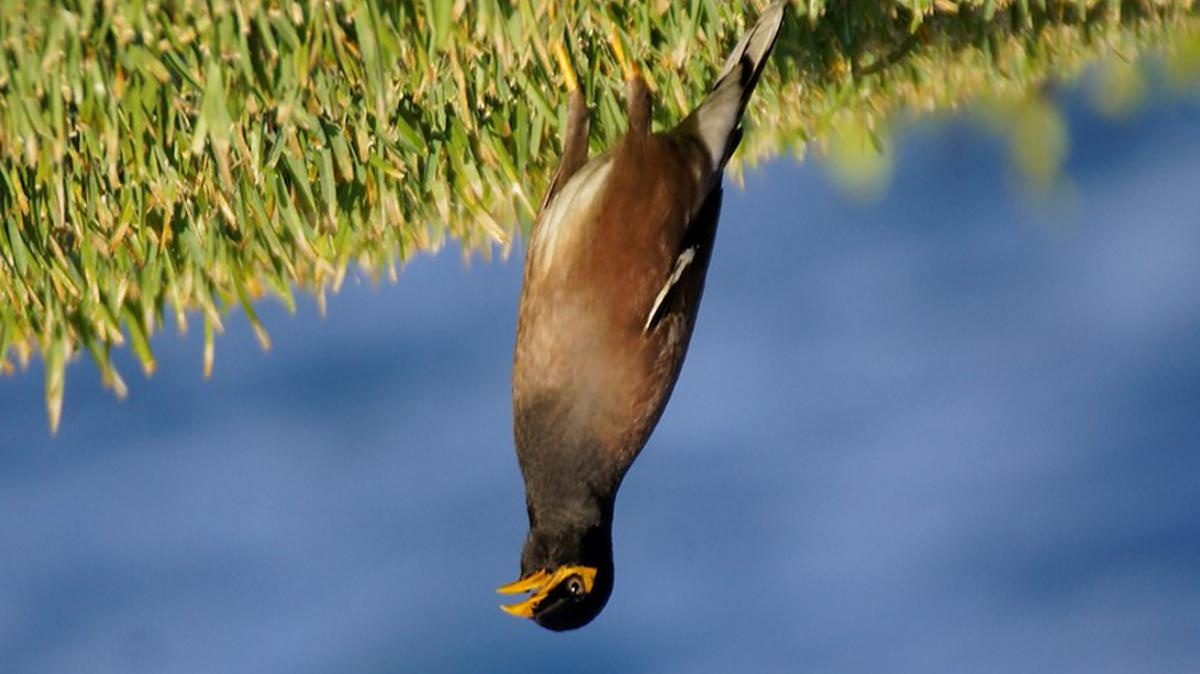myna: (456, 82, 669, 649)
